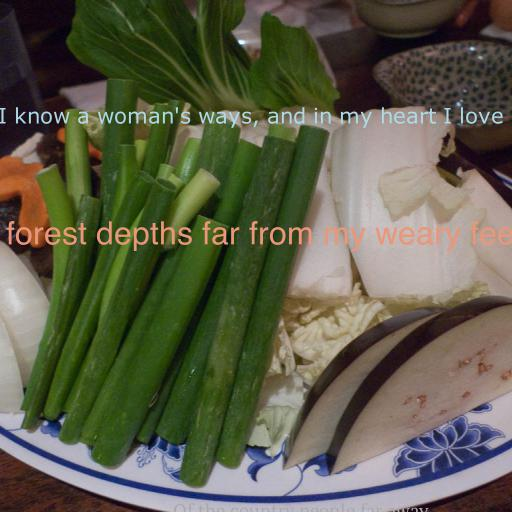Big Caslon: (0, 221, 512, 252)
PT Serif: (172, 503, 428, 512)
Verdana: (0, 107, 512, 128)
